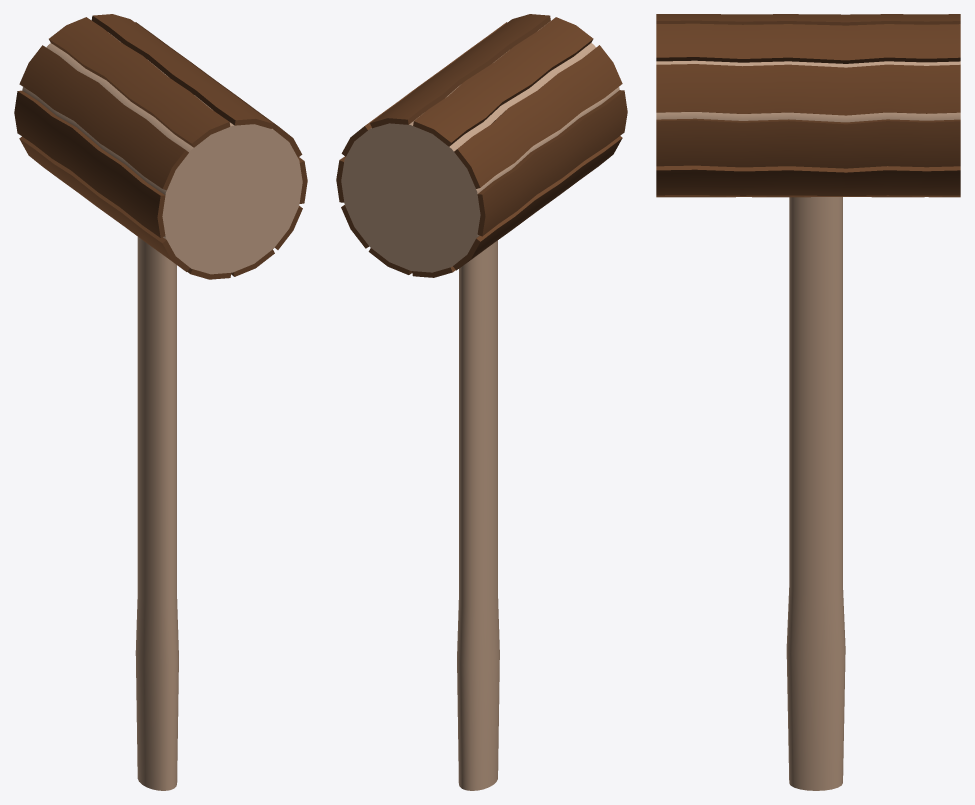
The model's file is Mallet.fbx.
3 views of the same model, side by side, from view 1: azimuth 30°, elevation 25°; view 2: azimuth 150°, elevation 25°; view 3: azimuth 270°, elevation 25° (orthographic). The views are drawn at different scales.
Visible parts, largest first — view 1: Mallet; view 2: Mallet; view 3: Mallet.
Part boxes in pixels (x1,y1,x2,y2): Mallet: (14,14,307,790); Mallet: (336,14,627,790); Mallet: (656,14,960,790).
Size of the model in its own units: 2.14 by 9.74 by 3.53.
